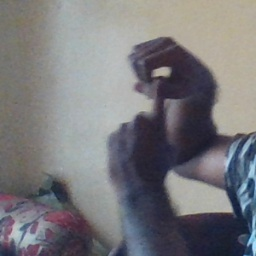Q: (101, 34, 207, 177)
